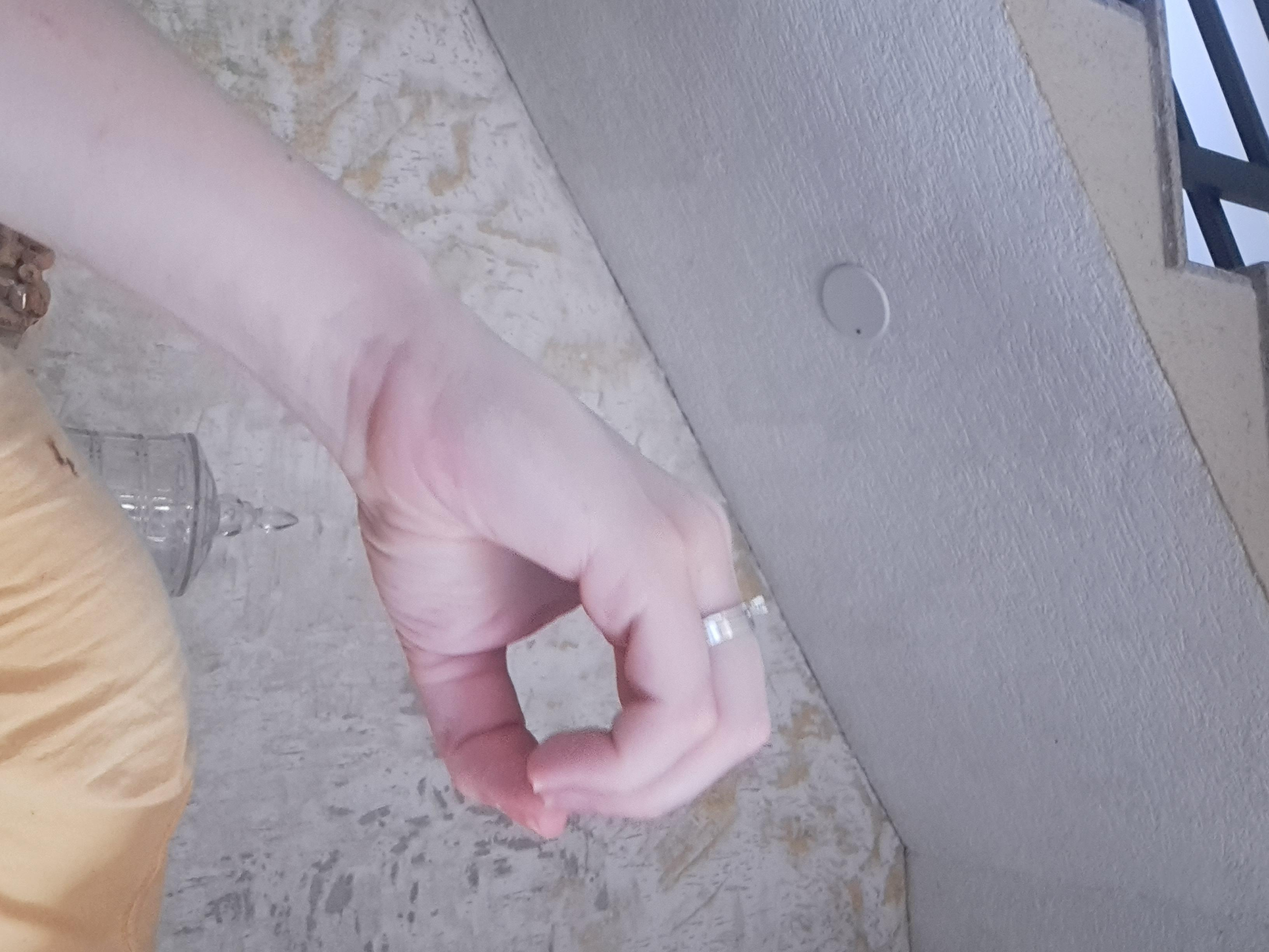O: (451, 356, 1130, 720)
